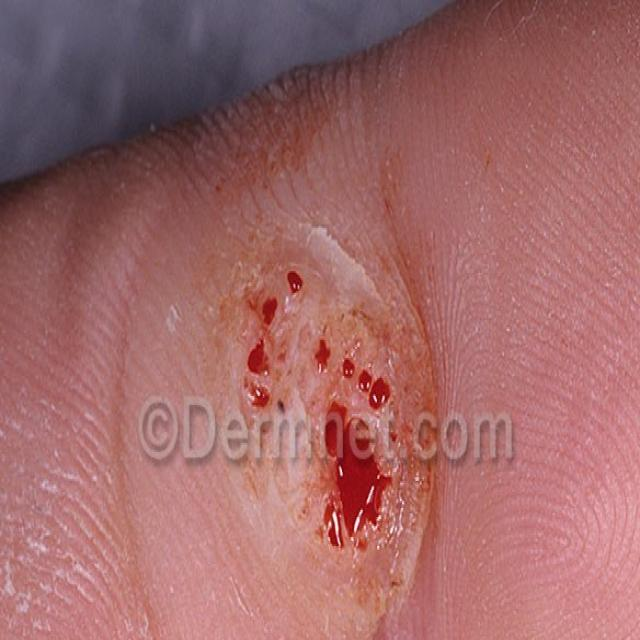Warts: (194, 153, 429, 640)
